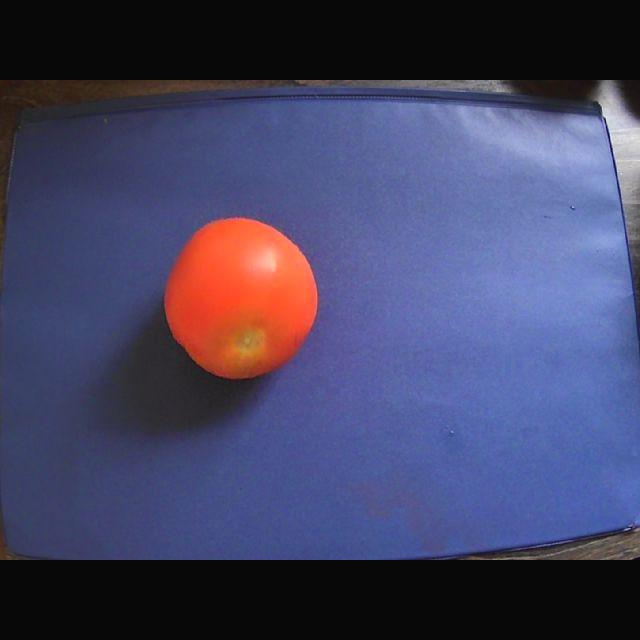tomate: (164, 218, 316, 378)
